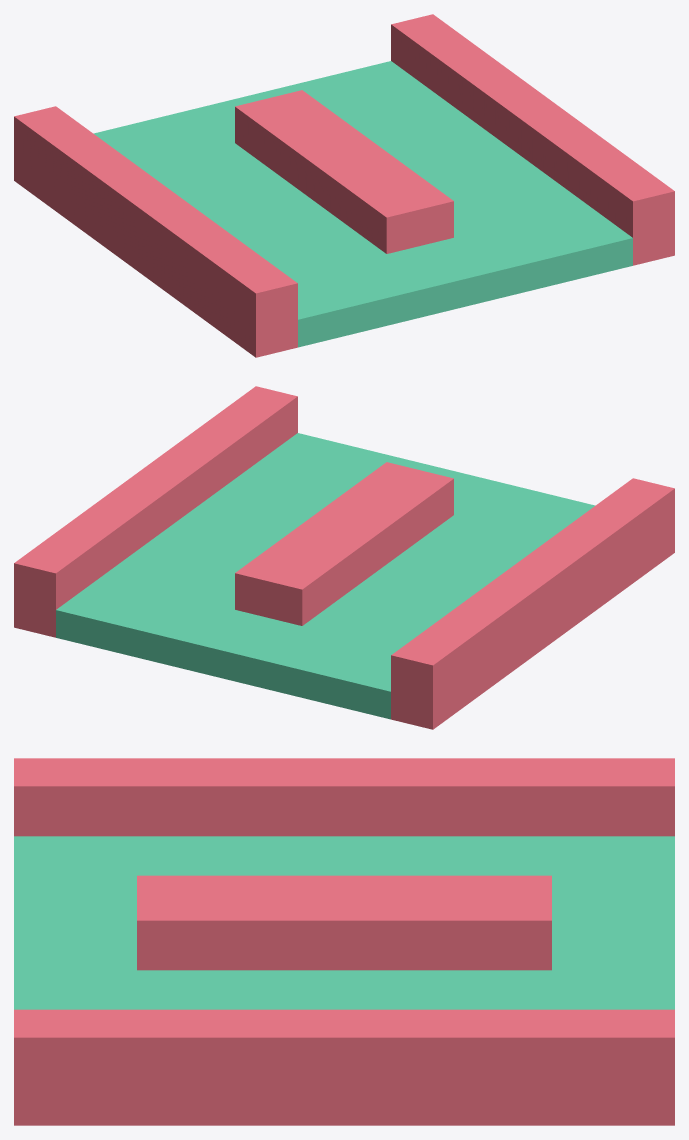
File: obstacleBlock.glb
3 views of the same model, one above another, from view 1: azimuth 30°, elevation 25°; view 2: azimuth 150°, elevation 25°; view 3: azimuth 270°, elevation 25° (orthographic). The views are drawn at different scales.
Parts seen in each view (by area): view 1: obstacleBlock; view 2: obstacleBlock; view 3: obstacleBlock.
Part boxes in pixels (left/top/right/bottom): obstacleBlock: left=14, top=14, right=674, bottom=357; obstacleBlock: left=14, top=386, right=674, bottom=729; obstacleBlock: left=14, top=758, right=674, bottom=1125.
Bounding box in the file's own units: 0.9999 × 0.1467 × 0.9999.
